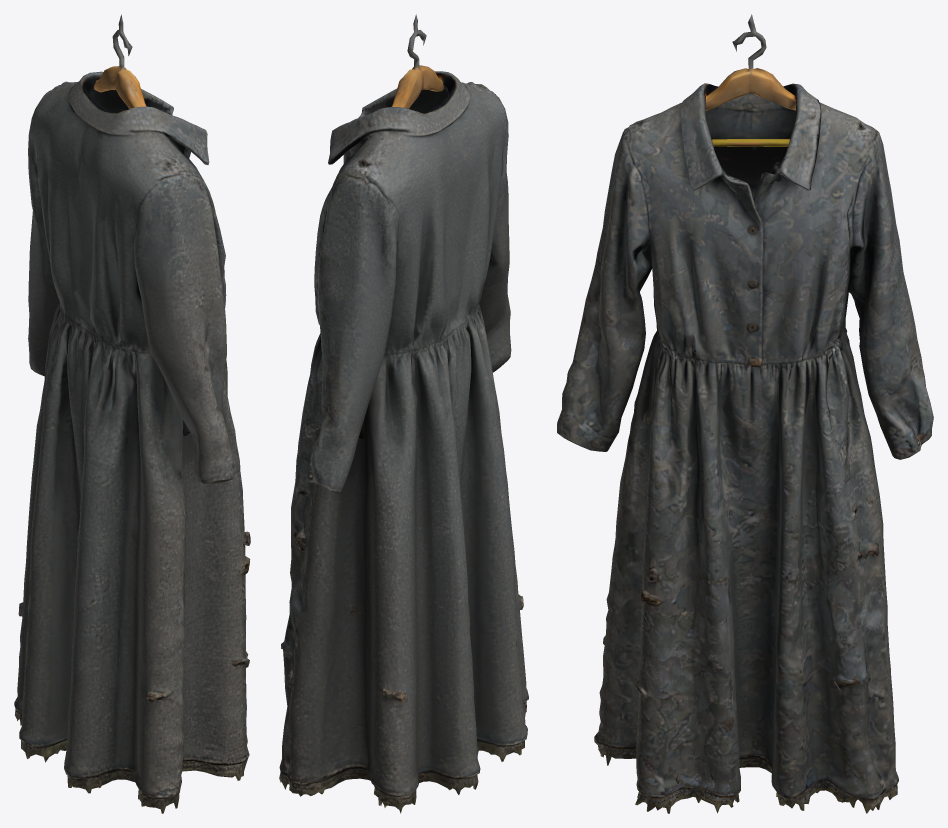
3 views of the same model, side by side, from view 1: azimuth 30°, elevation 25°; view 2: azimuth 150°, elevation 25°; view 3: azimuth 270°, elevation 25° (orthographic). The views are drawn at different scales.
Visible parts, largest first — view 1: tripo_node_dbc4f87b-5c83-4f67-8516-d61ae0ca98f5; view 2: tripo_node_dbc4f87b-5c83-4f67-8516-d61ae0ca98f5; view 3: tripo_node_dbc4f87b-5c83-4f67-8516-d61ae0ca98f5.
Boxes of the visible parts, left/top/right/bottom form: tripo_node_dbc4f87b-5c83-4f67-8516-d61ae0ca98f5: left=14, top=14, right=250, bottom=813; tripo_node_dbc4f87b-5c83-4f67-8516-d61ae0ca98f5: left=279, top=14, right=528, bottom=813; tripo_node_dbc4f87b-5c83-4f67-8516-d61ae0ca98f5: left=557, top=14, right=933, bottom=813.
Bounding box in the file's own units: 0.2308 × 1 × 0.4473.
Materials: 1 (1 with a texture image).
